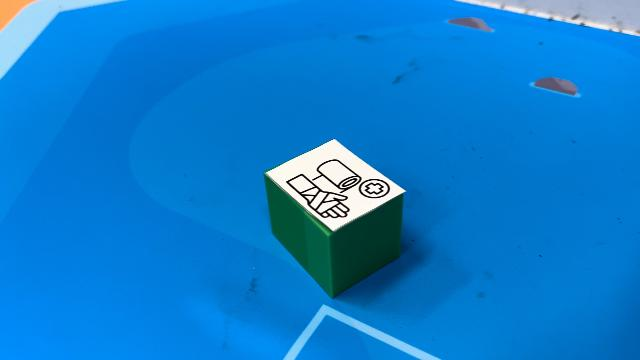bandage: (264, 138, 408, 298)
